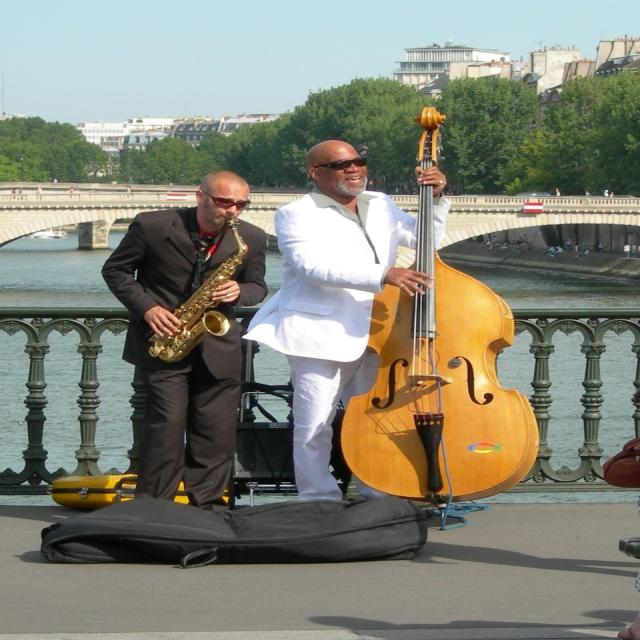saxophone: (146, 218, 256, 367)
